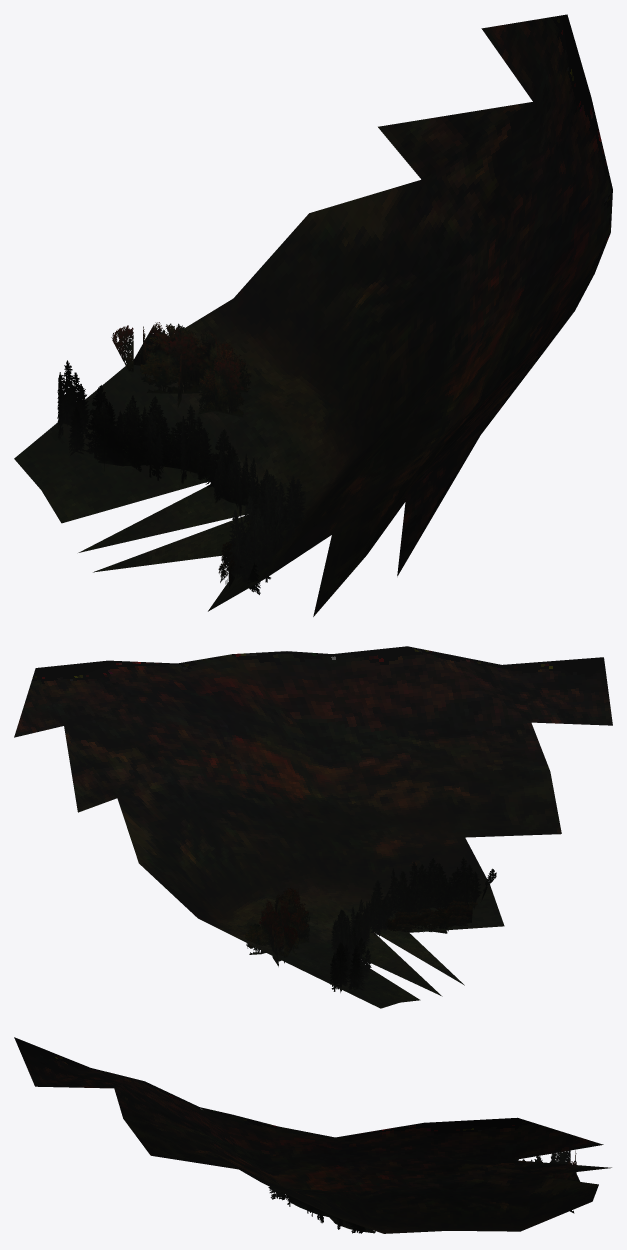
Rendered from cell_11_-17.gltf.
3 renders of one model, top to bottom at view 1: azimuth 30°, elevation 25°; view 2: azimuth 150°, elevation 25°; view 3: azimuth 270°, elevation 25°, orthographic. The views are drawn at different scales.
Parts seen in each view (by area): view 1: cell_11_-17; view 2: cell_11_-17; view 3: cell_11_-17.
Boxes of the visible parts, x1,y1,x2,y2 form: cell_11_-17: (14,14,612,616); cell_11_-17: (14,646,612,1008); cell_11_-17: (14,1037,611,1233).
Bounding box in the file's own units: 178 × 116 × 230.
9 materials, 9 textured.
